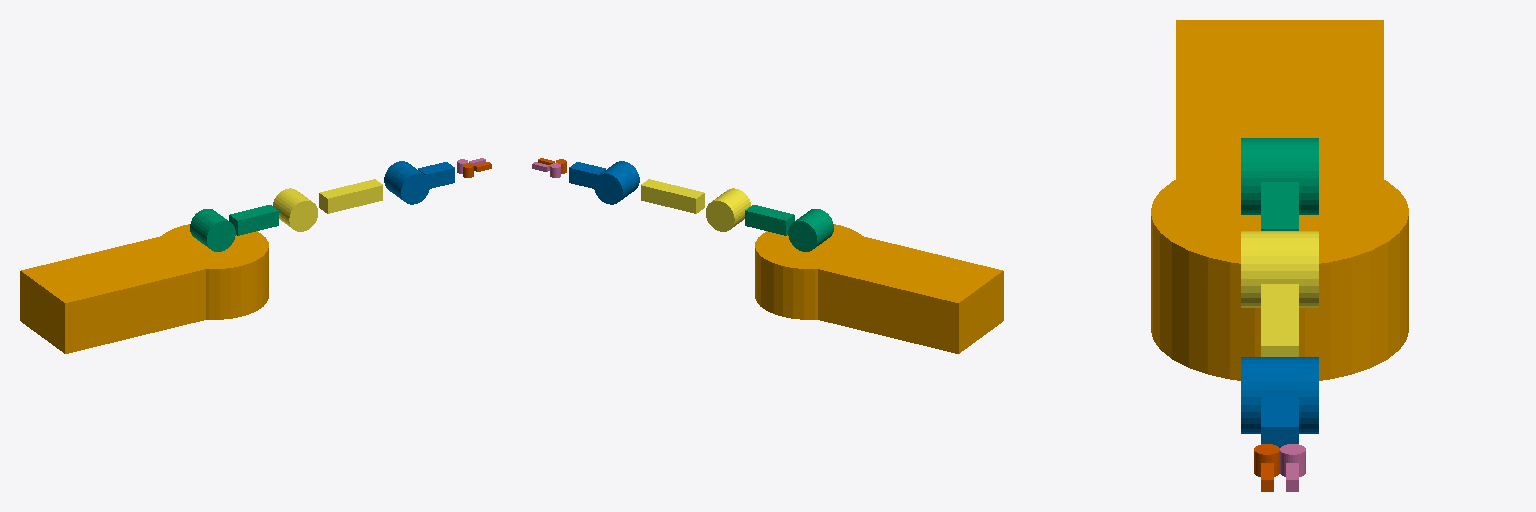
The robot description file, URDF, robot "owi":
<?xml version="1.0" encoding="utf-8" ?>
<!-- =================================================================================== -->
<!-- |    This document was autogenerated by xacro from [local-path]/Desktop/ROS/rosowi/src/owi/model/owi.xacro | -->
<!-- |    EDITING THIS FILE BY HAND IS NOT RECOMMENDED                                 | -->
<!-- =================================================================================== -->
<robot name="owi">
    <!-- robot model  -->
    <link name="base_link">
        <visual>
            <geometry>
                <cylinder length="0.05" radius="0.05" />
            </geometry>
            <origin rpy="0 0 0" xyz="0 0 0.025" />
        </visual>
        <visual>
            <geometry>
                <box size="0.15 0.08 0.05" />
            </geometry>
            <origin rpy="0 0 0" xyz="-0.1 0 0.025" />
        </visual>
        <collision>
            <geometry>
                <cylinder length="0.05" radius="0.05" />
            </geometry>
            <origin rpy="0 0 0" xyz="0 0 0.025" />
        </collision>
        <collision>
            <geometry>
                <box size="0.15 0.08 0.05" />
            </geometry>
            <origin rpy="0 0 0" xyz="-0.1 0 0.025" />
        </collision>
        
<inertial>
            <mass value="0.1" />
            <inertia ixx="0.03" iyy="0.03" izz="0.03" ixy="0.0" ixz="0.0" iyz="0.0" />
        </inertial>

    </link>
    <joint name="jointLink1" type="revolute">
        <parent link="base_link" />
        <child link="Link1" />
        <axis xyz="0 0 1" />
        <origin rpy="0.0 0 0" xyz="0 0 0.065" />
        <limit effort="100" lower="-1.57079632679" upper="1.57079632679" velocity="1" />
    </joint>
    <link name="Link1" />
    <joint name="jointLink2" type="revolute">
        <parent link="Link1" />
        <child link="Link2" />
        <axis xyz="0 0 1" />
        <origin rpy="1.57079632679 0 0" xyz="0 0 0" />
        <limit effort="100" lower="0.0" upper="3.14159265359" velocity="1" />
    </joint>
    <link name="Link2">
        <!-- elbow -->
        <visual>
            <geometry>
                <cylinder length="0.03" radius="0.015" />
            </geometry>
            <origin rpy="0 0 0" xyz="0 0 0" />
        </visual>
        <collision>
            <geometry>
                <cylinder length="0.03" radius="0.015" />
            </geometry>
            <origin rpy="0 0 0" xyz="0 0 0" />
        </collision>
        <!-- axial -->
        <visual>
            <geometry>
                <box size="0.015 0.015 0" />
            </geometry>
            <origin rpy="0 0 0" xyz="0 0 0.0" />
        </visual>
        <collision>
            <geometry>
                <box size="0.015 0.015 0.0" />
            </geometry>
            <origin rpy="0 0 0" xyz="0 0 0.0" />
        </collision>
        <!-- radial -->
        <visual>
            <geometry>
                <box size="0.0425 0.015 0.015" />
            </geometry>
            <origin rpy="0 0 0" xyz="0.0425 0 0" />
        </visual>
        <collision>
            <geometry>
                <box size="0.0425 0.015 0.015" />
            </geometry>
            <origin rpy="0 0 0" xyz="0.0425 0 0" />
        </collision>
        
<inertial>
            <mass value="0.1" />
            <inertia ixx="0.03" iyy="0.03" izz="0.03" ixy="0.0" ixz="0.0" iyz="0.0" />
        </inertial>

    </link>
    <joint name="jointLink3" type="revolute">
        <parent link="Link2" />
        <child link="Link3" />
        <axis xyz="0 0 1" />
        <origin rpy="0.0 0 0" xyz="0.085 0 0" />
        <limit effort="100" lower="-2.35619449019" upper="2.35619449019" velocity="1" />
    </joint>
    <link name="Link3">
        <!-- elbow -->
        <visual>
            <geometry>
                <cylinder length="0.03" radius="0.015" />
            </geometry>
            <origin rpy="0 0 0" xyz="0 0 0" />
        </visual>
        <collision>
            <geometry>
                <cylinder length="0.03" radius="0.015" />
            </geometry>
            <origin rpy="0 0 0" xyz="0 0 0" />
        </collision>
        <!-- axial -->
        <visual>
            <geometry>
                <box size="0.015 0.015 0" />
            </geometry>
            <origin rpy="0 0 0" xyz="0 0 0.0" />
        </visual>
        <collision>
            <geometry>
                <box size="0.015 0.015 0.0" />
            </geometry>
            <origin rpy="0 0 0" xyz="0 0 0.0" />
        </collision>
        <!-- radial -->
        <visual>
            <geometry>
                <box size="0.0575 0.015 0.015" />
            </geometry>
            <origin rpy="0 0 0" xyz="0.0575 0 0" />
        </visual>
        <collision>
            <geometry>
                <box size="0.0575 0.015 0.015" />
            </geometry>
            <origin rpy="0 0 0" xyz="0.0575 0 0" />
        </collision>
        
<inertial>
            <mass value="0.1" />
            <inertia ixx="0.03" iyy="0.03" izz="0.03" ixy="0.0" ixz="0.0" iyz="0.0" />
        </inertial>

    </link>
    <joint name="jointLink4" type="revolute">
        <parent link="Link3" />
        <child link="Link4" />
        <axis xyz="0 0 1" />
        <origin rpy="0.0 0 0" xyz="0.115 0 0" />
        <limit effort="100" lower="-1.0471975512" upper="1.0471975512" velocity="1" />
    </joint>
    <link name="Link4">
        <!-- elbow -->
        <visual>
            <geometry>
                <cylinder length="0.03" radius="0.015" />
            </geometry>
            <origin rpy="0 0 0" xyz="0 0 0" />
        </visual>
        <collision>
            <geometry>
                <cylinder length="0.03" radius="0.015" />
            </geometry>
            <origin rpy="0 0 0" xyz="0 0 0" />
        </collision>
        <!-- axial -->
        <visual>
            <geometry>
                <box size="0.015 0.015 0" />
            </geometry>
            <origin rpy="0 0 0" xyz="0 0 0.0" />
        </visual>
        <collision>
            <geometry>
                <box size="0.015 0.015 0.0" />
            </geometry>
            <origin rpy="0 0 0" xyz="0 0 0.0" />
        </collision>
        <!-- radial -->
        <visual>
            <geometry>
                <box size="0.03 0.015 0.015" />
            </geometry>
            <origin rpy="0 0 0" xyz="0.03 0 0" />
        </visual>
        <collision>
            <geometry>
                <box size="0.03 0.015 0.015" />
            </geometry>
            <origin rpy="0 0 0" xyz="0.03 0 0" />
        </collision>
        
<inertial>
            <mass value="0.1" />
            <inertia ixx="0.03" iyy="0.03" izz="0.03" ixy="0.0" ixz="0.0" iyz="0.0" />
        </inertial>

    </link>
    <joint name="jointRgripper" type="revolute">
        <parent link="Link4" />
        <child link="Rgripper" />
        <axis xyz="0 0 1" />
        <origin rpy="1.57079632679 0 0" xyz="0.06 0 0.005" />
        <limit effort="100" lower="0.0" upper="1.57079632679" velocity="1" />
    </joint>
    <joint name="jointLgripper" type="revolute">
        <parent link="Link4" />
        <child link="Lgripper" />
        <axis xyz="0 0 1" />
        <origin rpy="-1.57079632679 0 0" xyz="0.06 0 -0.005" />
        <limit effort="100" lower="0.0" upper="1.57079632679" velocity="1" />
        <mimic joint="jointRgripper" />
    </joint>
    <link name="Rgripper">
        <!-- elbow -->
        <visual>
            <geometry>
                <cylinder length="0.01" radius="0.005" />
            </geometry>
            <origin rpy="0 0 0" xyz="0 0 0" />
        </visual>
        <collision>
            <geometry>
                <cylinder length="0.01" radius="0.005" />
            </geometry>
            <origin rpy="0 0 0" xyz="0 0 0" />
        </collision>
        <!-- axial -->
        <visual>
            <geometry>
                <box size="0.005 0.005 0" />
            </geometry>
            <origin rpy="0 0 0" xyz="0 0 0.0" />
        </visual>
        <collision>
            <geometry>
                <box size="0.005 0.005 0.0" />
            </geometry>
            <origin rpy="0 0 0" xyz="0 0 0.0" />
        </collision>
        <!-- radial -->
        <visual>
            <geometry>
                <box size="0.015 0.005 0.005" />
            </geometry>
            <origin rpy="0 0 0" xyz="0.015 0 0" />
        </visual>
        <collision>
            <geometry>
                <box size="0.015 0.005 0.005" />
            </geometry>
            <origin rpy="0 0 0" xyz="0.015 0 0" />
        </collision>
        
<inertial>
            <mass value="0.1" />
            <inertia ixx="0.03" iyy="0.03" izz="0.03" ixy="0.0" ixz="0.0" iyz="0.0" />
        </inertial>

    </link>
    <link name="Lgripper">
        <!-- elbow -->
        <visual>
            <geometry>
                <cylinder length="0.01" radius="0.005" />
            </geometry>
            <origin rpy="0 0 0" xyz="0 0 0" />
        </visual>
        <collision>
            <geometry>
                <cylinder length="0.01" radius="0.005" />
            </geometry>
            <origin rpy="0 0 0" xyz="0 0 0" />
        </collision>
        <!-- axial -->
        <visual>
            <geometry>
                <box size="0.005 0.005 0" />
            </geometry>
            <origin rpy="0 0 0" xyz="0 0 0.0" />
        </visual>
        <collision>
            <geometry>
                <box size="0.005 0.005 0.0" />
            </geometry>
            <origin rpy="0 0 0" xyz="0 0 0.0" />
        </collision>
        <!-- radial -->
        <visual>
            <geometry>
                <box size="0.015 0.005 0.005" />
            </geometry>
            <origin rpy="0 0 0" xyz="0.015 0 0" />
        </visual>
        <collision>
            <geometry>
                <box size="0.015 0.005 0.005" />
            </geometry>
            <origin rpy="0 0 0" xyz="0.015 0 0" />
        </collision>
        
<inertial>
            <mass value="0.1" />
            <inertia ixx="0.03" iyy="0.03" izz="0.03" ixy="0.0" ixz="0.0" iyz="0.0" />
        </inertial>

    </link>
    
<transmission name="trans_jointLink1">
        <type>transmission_interface/SimpleTransmission</type>
        <joint name="jointLink1">
            <hardwareInterface>hardware_interface/EffortJointInterface</hardwareInterface>
        </joint>
        <actuator name="jointLink1_motor">
            <hardwareInterface>hardware_interface/EffortJointInterface</hardwareInterface>
            <mechanicalReduction>1</mechanicalReduction>
        </actuator>
    </transmission>
    <transmission name="trans_jointLink2">
        <type>transmission_interface/SimpleTransmission</type>
        <joint name="jointLink2">
            <hardwareInterface>hardware_interface/EffortJointInterface</hardwareInterface>
        </joint>
        <actuator name="jointLink2_motor">
            <hardwareInterface>hardware_interface/EffortJointInterface</hardwareInterface>
            <mechanicalReduction>1</mechanicalReduction>
        </actuator>
    </transmission>
    <transmission name="trans_jointLink3">
        <type>transmission_interface/SimpleTransmission</type>
        <joint name="jointLink3">
            <hardwareInterface>hardware_interface/EffortJointInterface</hardwareInterface>
        </joint>
        <actuator name="jointLink3_motor">
            <hardwareInterface>hardware_interface/EffortJointInterface</hardwareInterface>
            <mechanicalReduction>1</mechanicalReduction>
        </actuator>
    </transmission>
    <transmission name="trans_jointLink4">
        <type>transmission_interface/SimpleTransmission</type>
        <joint name="jointLink4">
            <hardwareInterface>hardware_interface/EffortJointInterface</hardwareInterface>
        </joint>
        <actuator name="jointLink4_motor">
            <hardwareInterface>hardware_interface/EffortJointInterface</hardwareInterface>
            <mechanicalReduction>1</mechanicalReduction>
        </actuator>
    </transmission>
    <transmission name="trans_jointRgripper">
        <type>transmission_interface/SimpleTransmission</type>
        <joint name="jointRgripper">
            <hardwareInterface>hardware_interface/EffortJointInterface</hardwareInterface>
        </joint>
        <actuator name="jointRgripper_motor">
            <hardwareInterface>hardware_interface/EffortJointInterface</hardwareInterface>
            <mechanicalReduction>1</mechanicalReduction>
        </actuator>
    </transmission>
    <transmission name="trans_jointLgripper">
        <type>transmission_interface/SimpleTransmission</type>
        <joint name="jointLgripper">
            <hardwareInterface>hardware_interface/EffortJointInterface</hardwareInterface>
        </joint>
        <actuator name="jointLgripper_motor">
            <hardwareInterface>hardware_interface/EffortJointInterface</hardwareInterface>
            <mechanicalReduction>1</mechanicalReduction>
        </actuator>
    </transmission>
    <gazebo>
        <plugin name="gazebo_ros_control" filename="libgazebo_ros_control.so">
            <robotNamespace>/</robotNamespace>
        </plugin>
    </gazebo>
</robot>

--- What the picture shows (computed from the rendered views, not written in the file) ---
3 views of the same robot in one strip: view 1: azimuth 30°, elevation 25°; view 2: azimuth 150°, elevation 25°; view 3: azimuth 270°, elevation 25° (orthographic).
Model owi with 7 links and 6 joints (6 revolute), rooted at base_link, posed every joint at zero.
Links seen in each view (by area): view 1: base_link, Link3, Link2, Link4; view 2: base_link, Link3, Link2, Link4; view 3: base_link, Link3, Link2, Link4, Rgripper, Lgripper.
Boxes of the visible links, left/top/right/bottom form: base_link: left=20, top=224, right=268, bottom=353; Link3: left=273, top=179, right=382, bottom=231; Link2: left=190, top=205, right=278, bottom=251; Link4: left=384, top=161, right=454, bottom=204; base_link: left=755, top=224, right=1003, bottom=353; Link3: left=641, top=179, right=750, bottom=231; Link2: left=745, top=205, right=833, bottom=251; Link4: left=569, top=161, right=639, bottom=204; base_link: left=1151, top=20, right=1408, bottom=380; Link3: left=1241, top=231, right=1318, bottom=356; Link2: left=1241, top=138, right=1318, bottom=230; Link4: left=1241, top=357, right=1318, bottom=447; Rgripper: left=1254, top=444, right=1279, bottom=491; Lgripper: left=1280, top=444, right=1305, bottom=491.
Bounding box of the posed robot: 0.4575 × 0.1 × 0.08 m (x, y, z).
Geometry: primitives only (box / cylinder / sphere), no mesh files.